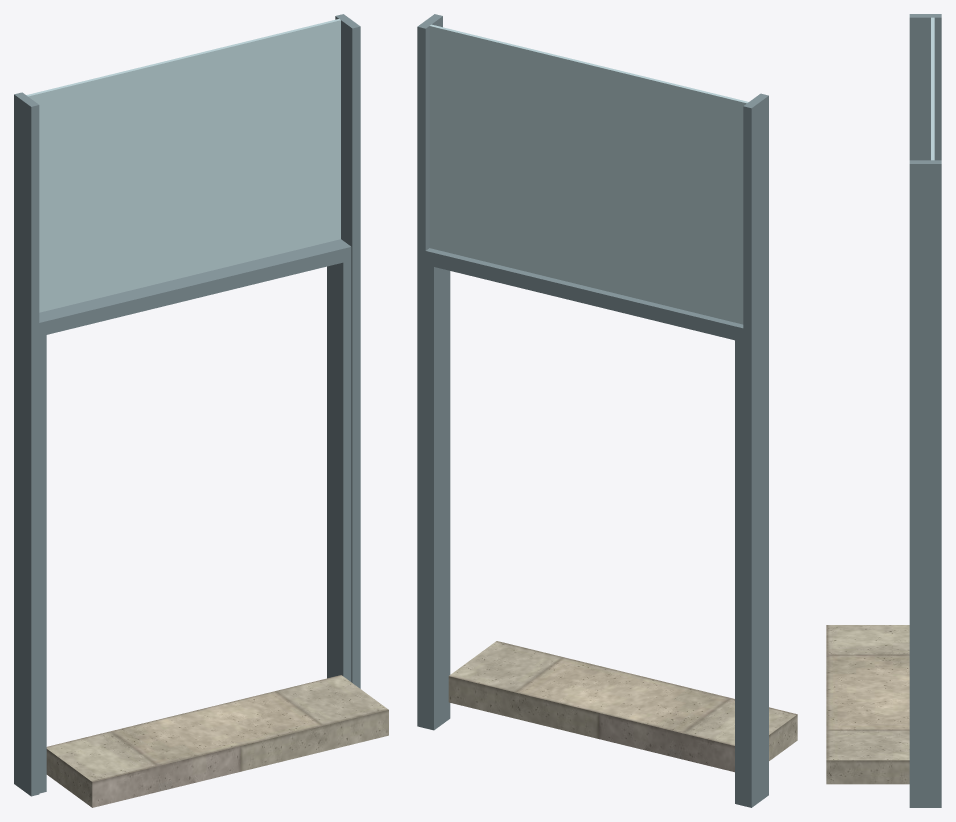
The model's file is curtain_wall_entry.glb.
The picture shows the model from 3 angles, left to right: view 1: azimuth 30°, elevation 25°; view 2: azimuth 150°, elevation 25°; view 3: azimuth 270°, elevation 25°; orthographic projection. The views are drawn at different scales.
Visible parts, largest first — view 1: curtain_wall_entry_glass, curtain_wall_entry_frame2, curtain_wall_entry_stone; view 2: curtain_wall_entry_glass, curtain_wall_entry_frame2, curtain_wall_entry_stone; view 3: curtain_wall_entry_frame2, curtain_wall_entry_stone, curtain_wall_entry_glass.
Boxes of the visible parts, bbox=[...] form: curtain_wall_entry_glass: bbox=[26, 19, 340, 312]; curtain_wall_entry_frame2: bbox=[14, 14, 360, 796]; curtain_wall_entry_stone: bbox=[46, 675, 388, 807]; curtain_wall_entry_glass: bbox=[429, 24, 748, 324]; curtain_wall_entry_frame2: bbox=[417, 14, 768, 807]; curtain_wall_entry_stone: bbox=[448, 641, 797, 772]; curtain_wall_entry_frame2: bbox=[909, 14, 941, 807]; curtain_wall_entry_stone: bbox=[826, 625, 909, 784]; curtain_wall_entry_glass: bbox=[931, 17, 934, 160].
Size of the model in its own units: 2 by 4 by 0.65.
3 materials, 1 textured.
